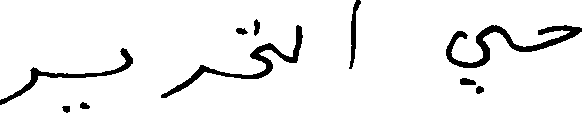ا: (345, 0, 360, 69)
ت: (231, 17, 272, 60)
ح: (535, 22, 581, 50)
ر: (159, 62, 206, 97), (0, 64, 40, 105), (227, 51, 273, 83)
ل: (287, 23, 304, 64)
ي: (445, 23, 512, 94), (59, 45, 130, 111)
